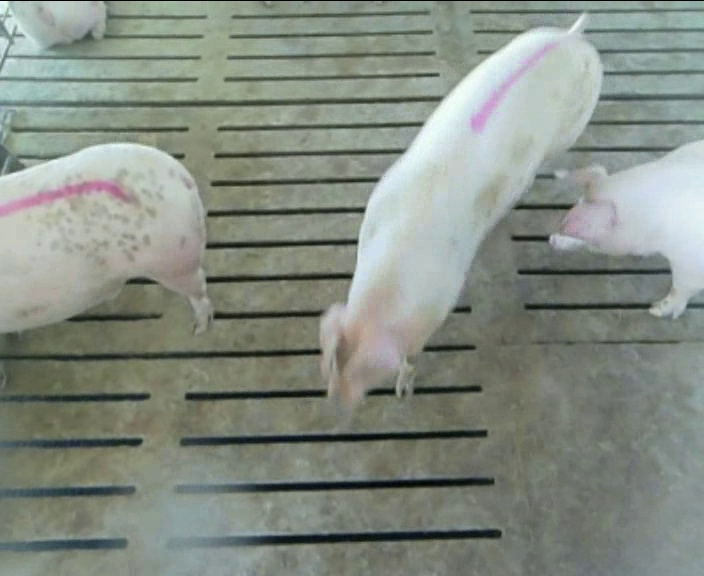pig: (320, 15, 601, 413), (0, 143, 212, 332), (550, 140, 703, 316)
